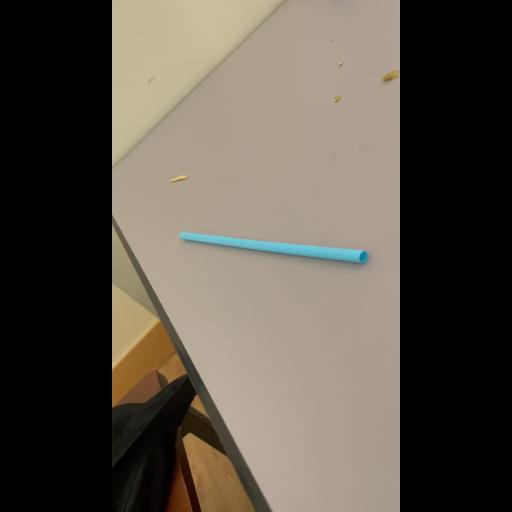straw: (177, 228, 371, 270)
